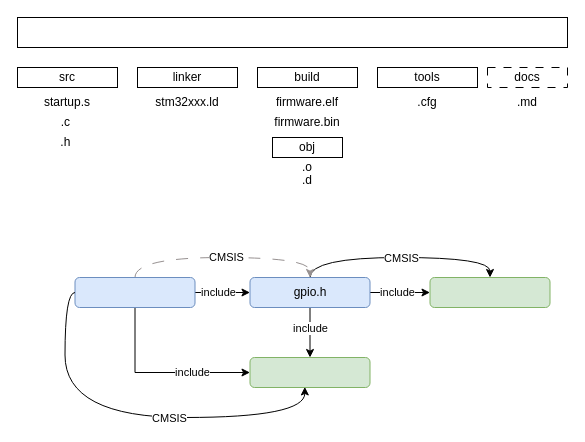
This 585x442 diagram has some shape labels left out. Here are the shapes that lost their labels. From the top down, the centre of each, then its label:
At [292,32]: "Project".
At [134,292]: "stm32f10x.h".
At [489,292]: "gpio.c".
At [309,372]: "main.c".
